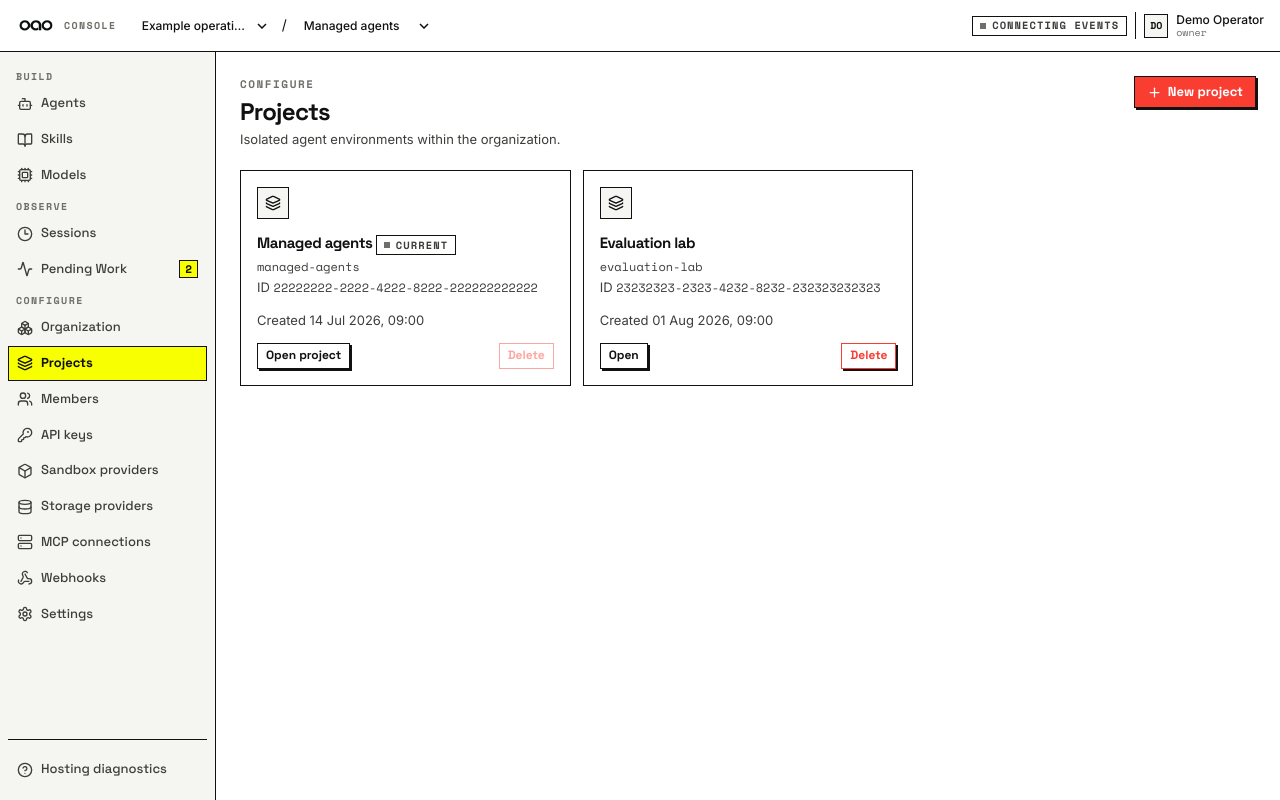
it: management console › creates and deletes projects
expect the text "managed-agents" is shown: met, box 257,258 -> 360,275
expect the button "Delete" next to "Open project" is disabled: met, box 499,343 -> 554,369
Click the button "New project" at [1195, 92], box 1134,76 -> 1256,108
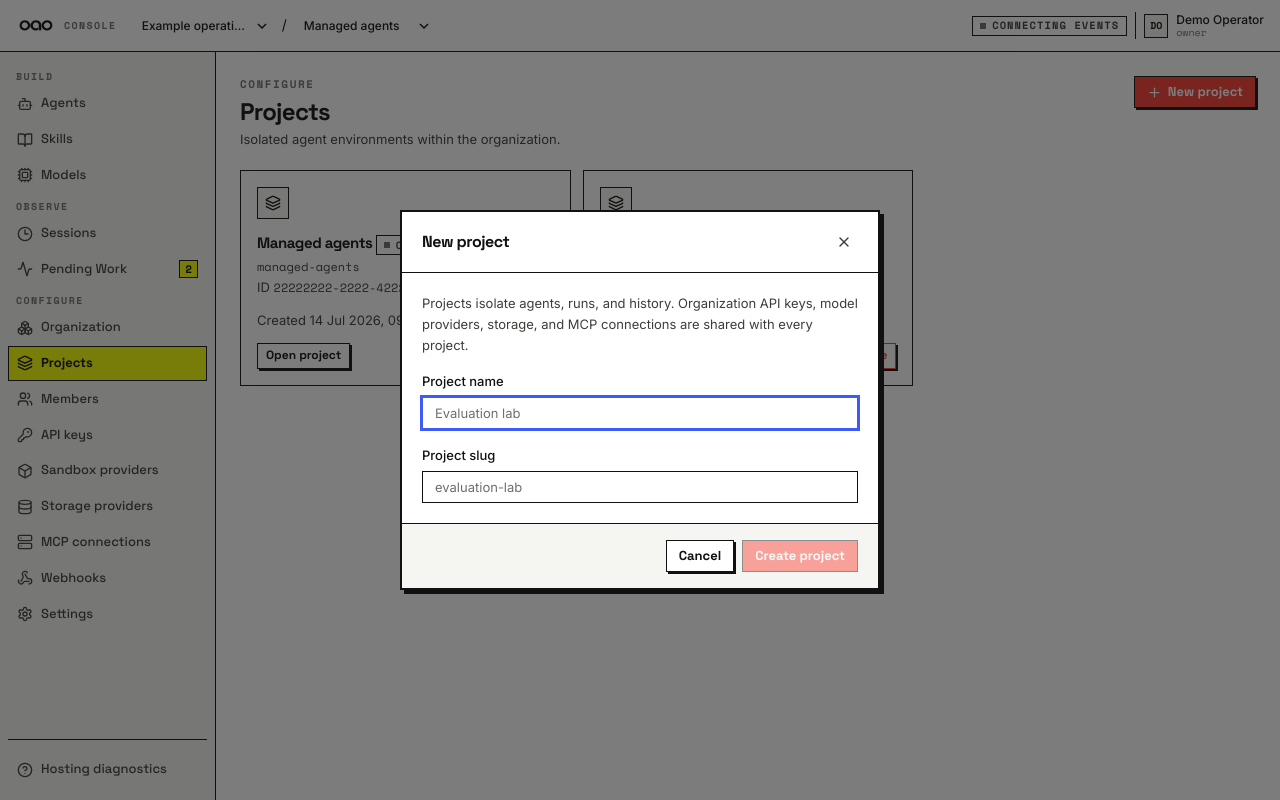
Type "Research Sandbox" into the field labelled "Project name" at [640, 413], box 422,397 -> 858,429
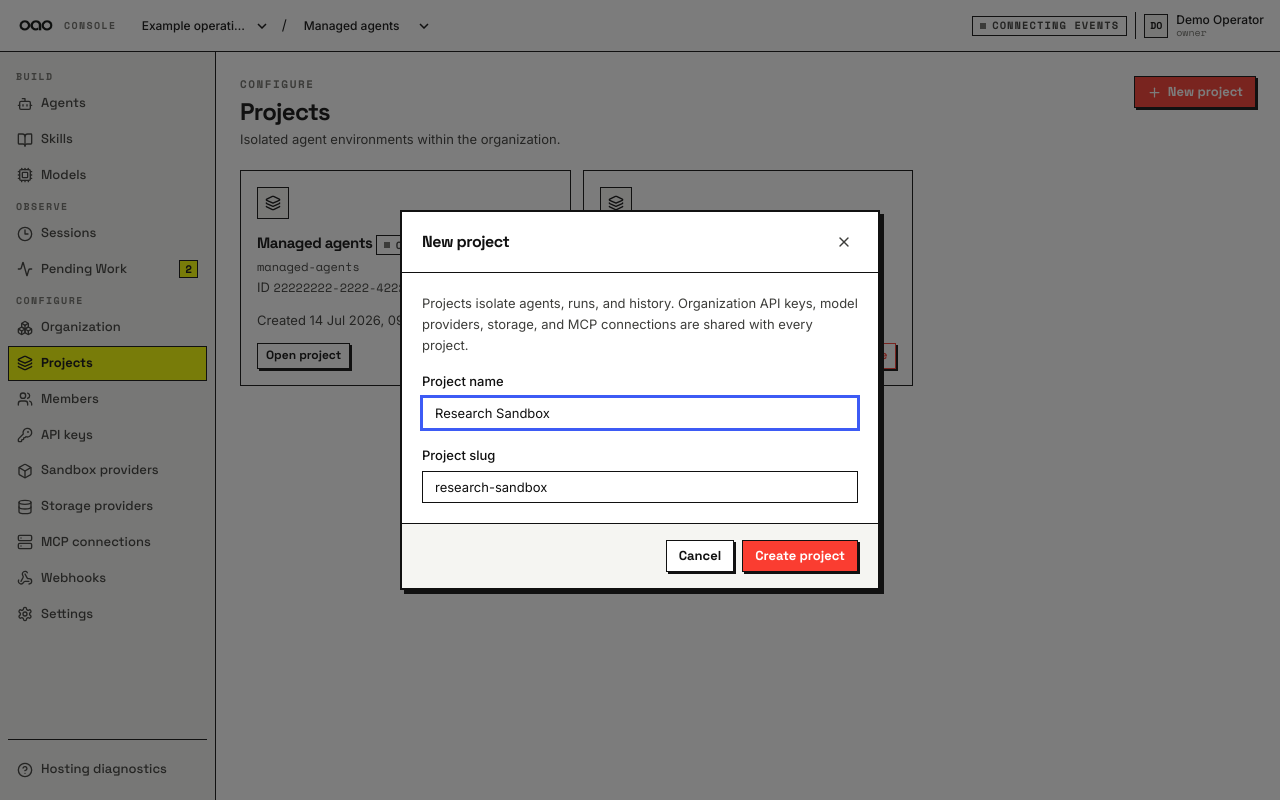
expect the field labelled "Project slug" holds "research-sandbox": met, box 422,471 -> 858,503
Click the button "Create project" at [800, 556], box 742,540 -> 858,572
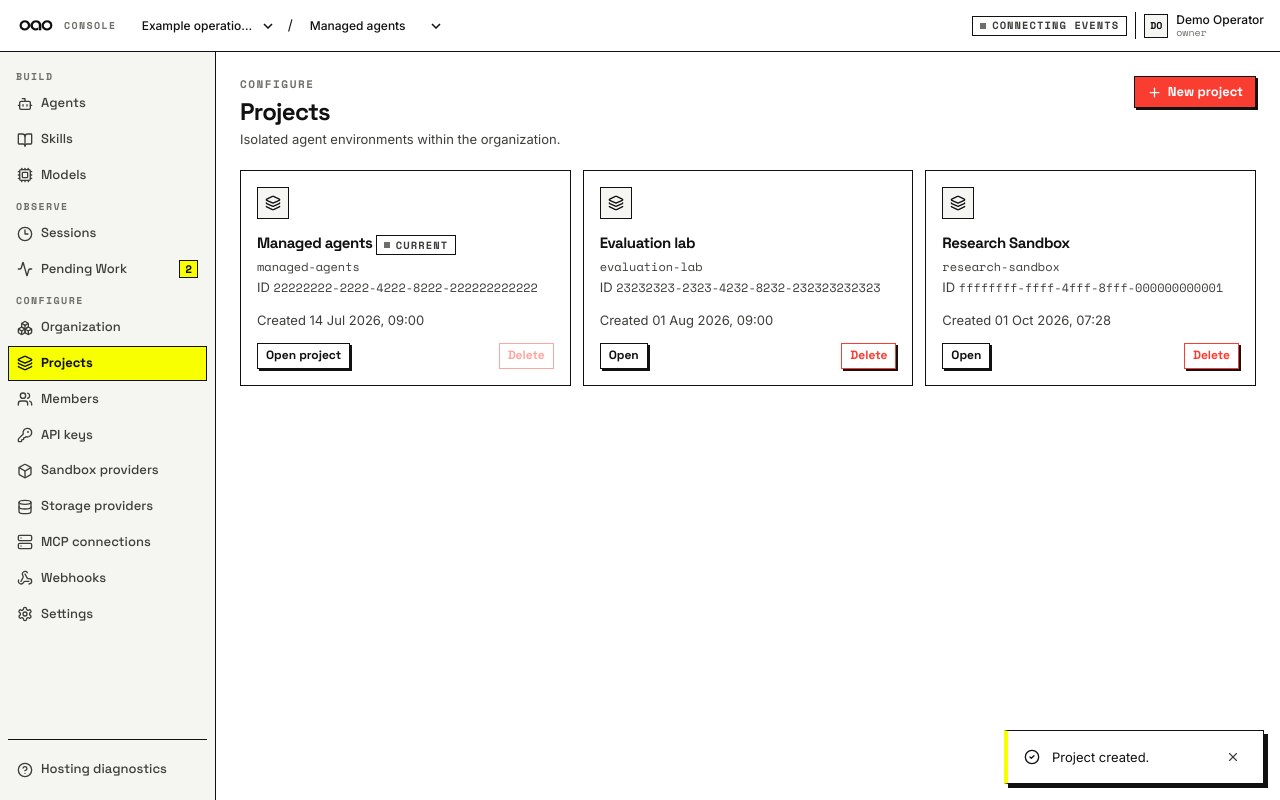
expect the text "research-sandbox" is shown: met, box 942,258 -> 1060,275
Click the button "Delete" below "01 Oct 2026, 07:28" at [1212, 356], box 1184,343 -> 1239,369
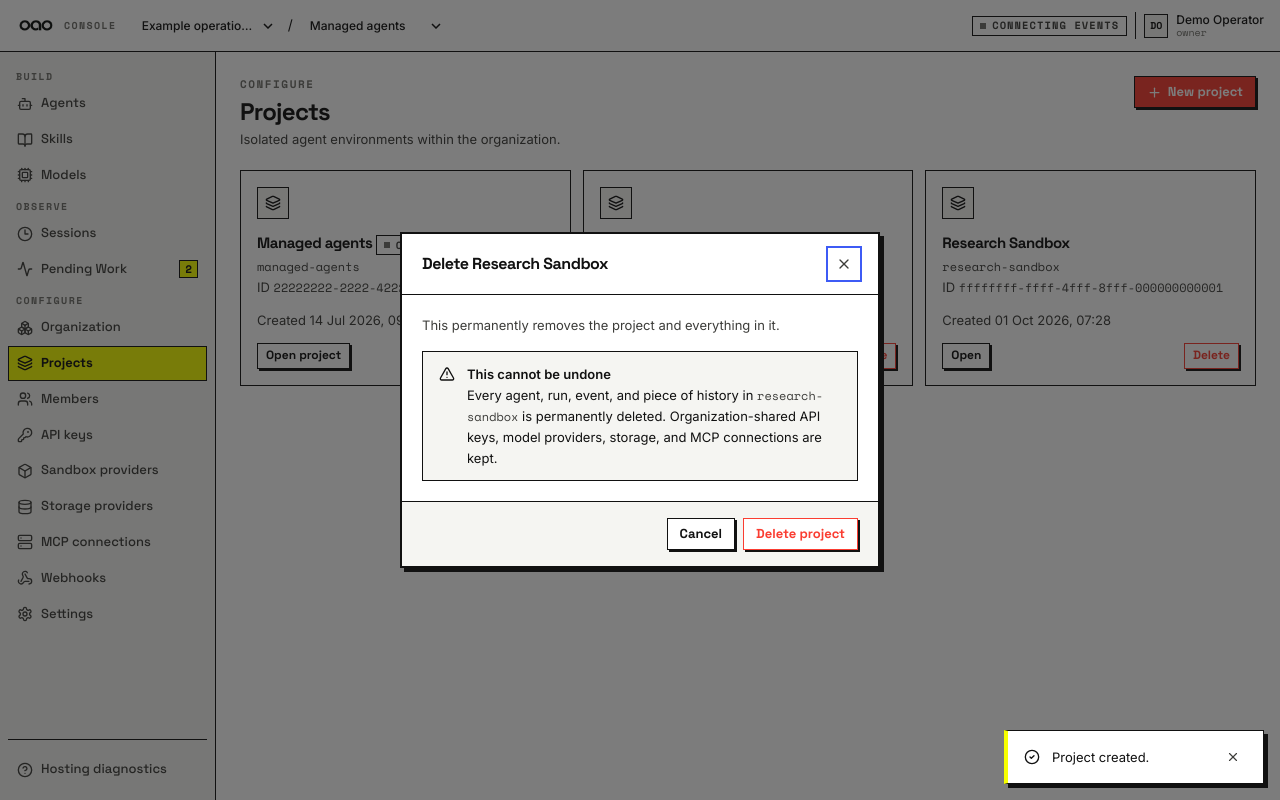
Click the button "Delete project" at [801, 534], box 743,518 -> 858,550
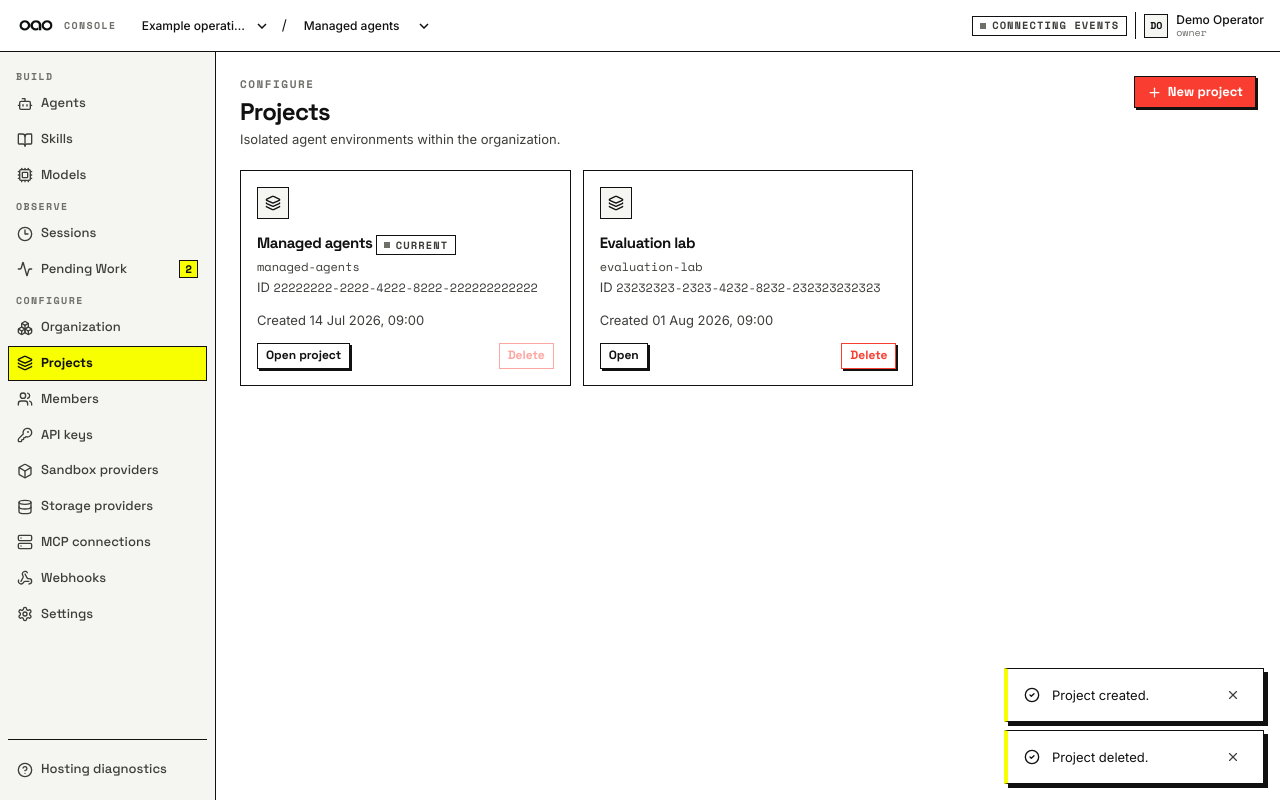
expect the text "research-sandbox" is gone: met
